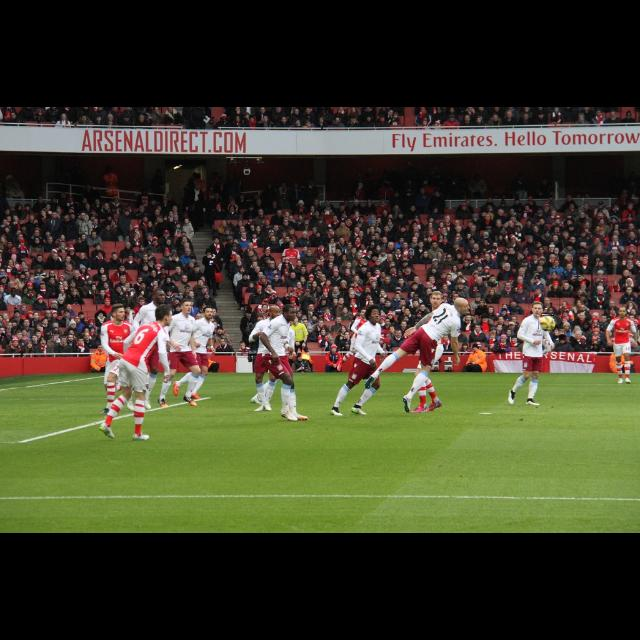Football: (538, 315, 554, 329)
